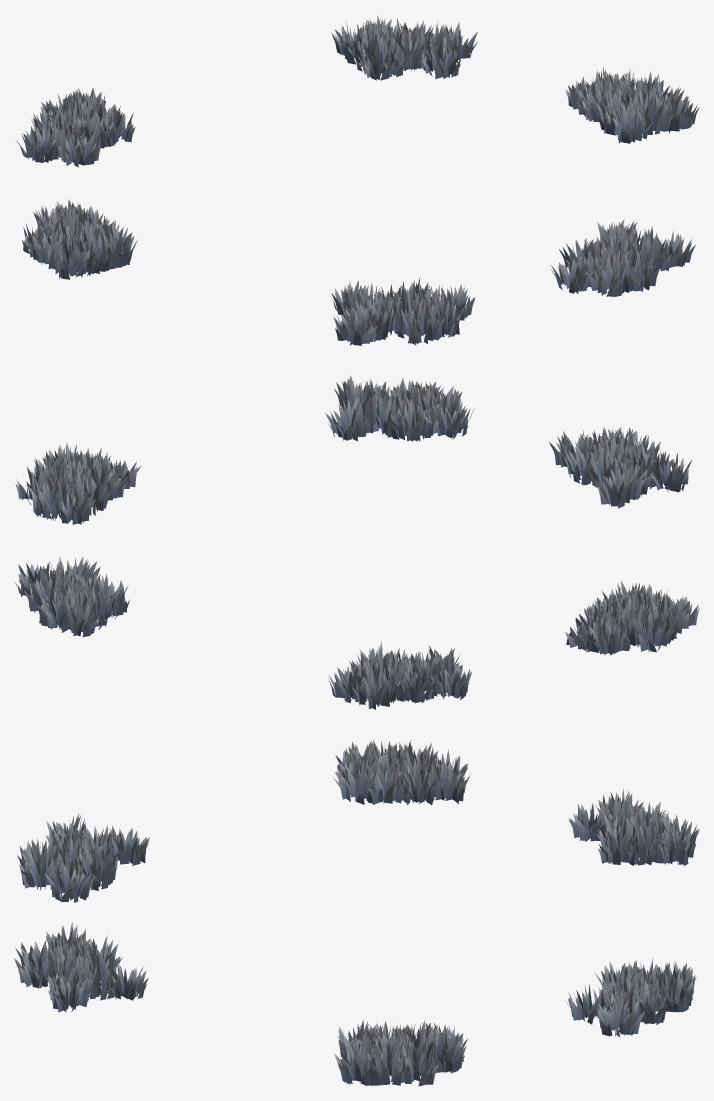
The model's file is moonwell_grass.glb.
3 views of the same model, one above another, from view 1: azimuth 30°, elevation 25°; view 2: azimuth 150°, elevation 25°; view 3: azimuth 270°, elevation 25° (orthographic). The views are drawn at different scales.
Visible parts, largest first — view 1: Grass_24_10, Grass_29_19, Grass_22_30, Grass_14_30, Grass_6_19, Grass_7_19, Grass_13_29, Grass_11_11, Grass_10_10, Grass_12_29, Grass_26_11, Grass_30_19 (+28 smaller); view 2: Grass_13_27, Grass_12_8, Grass_22_28, Grass_24_27, Grass_7_16, Grass_6_17, Grass_11_9, Grass_10_10, Grass_29_16, Grass_25_8, Grass_24_8, Grass_30_16 (+32 smaller); view 3: Grass_27_10, Grass_8_17, Grass_13_9, Grass_8_19, Grass_31_18, Grass_25_29, Grass_16_29, Grass_31_17, Grass_13_10, Grass_25_8, Grass_13_8, Grass_15_30 (+26 smaller).
Boxes of the visible parts, box(x1,y1,x2,y2) form: Grass_24_10: box(357, 33, 403, 80); Grass_29_19: box(600, 95, 651, 143); Grass_22_30: box(583, 251, 634, 297); Grass_14_30: box(396, 298, 444, 345); Grass_6_19: box(52, 230, 93, 279); Grass_7_19: box(71, 225, 119, 273); Grass_13_29: box(356, 292, 394, 341); Grass_11_11: box(54, 124, 100, 167); Grass_10_10: box(16, 119, 59, 162); Grass_12_29: box(333, 306, 377, 345); Grass_26_11: box(419, 35, 460, 78); Grass_30_19: box(636, 91, 676, 134); Grass_13_27: box(594, 463, 645, 508); Grass_12_8: box(352, 660, 400, 709); Grass_22_28: box(388, 400, 439, 441); Grass_24_27: box(325, 398, 373, 441); Grass_7_16: box(587, 611, 630, 655); Grass_6_17: box(625, 603, 674, 652); Grass_11_9: box(390, 656, 435, 703); Grass_10_10: box(428, 659, 471, 699); Grass_29_16: box(47, 482, 95, 524); Grass_25_8: box(35, 585, 80, 632); Grass_24_8: box(64, 591, 104, 636); Grass_30_16: box(26, 477, 69, 520); Grass_27_10: box(598, 991, 644, 1036); Grass_8_17: box(397, 757, 440, 804); Grass_13_9: box(627, 819, 667, 865); Grass_8_19: box(333, 759, 377, 804); Grass_31_18: box(366, 1042, 407, 1085); Grass_25_29: box(48, 970, 93, 1012); Grass_16_29: box(45, 861, 93, 902); Grass_31_17: box(397, 1039, 438, 1086); Grass_13_10: box(598, 820, 638, 865); Grass_25_8: box(654, 963, 693, 1012); Grass_13_8: box(656, 818, 695, 865); Grass_15_30: box(19, 841, 62, 890).
Bounding box in the file's own units: 13.31 × 0.68 × 11.85.
